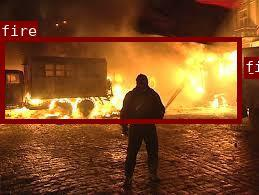fire: (0, 36, 241, 123), (244, 57, 257, 77)
